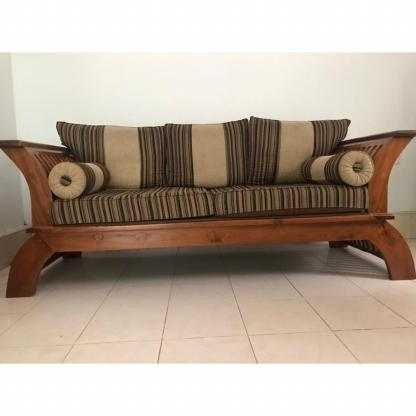Sofa: (1, 116, 415, 298)
